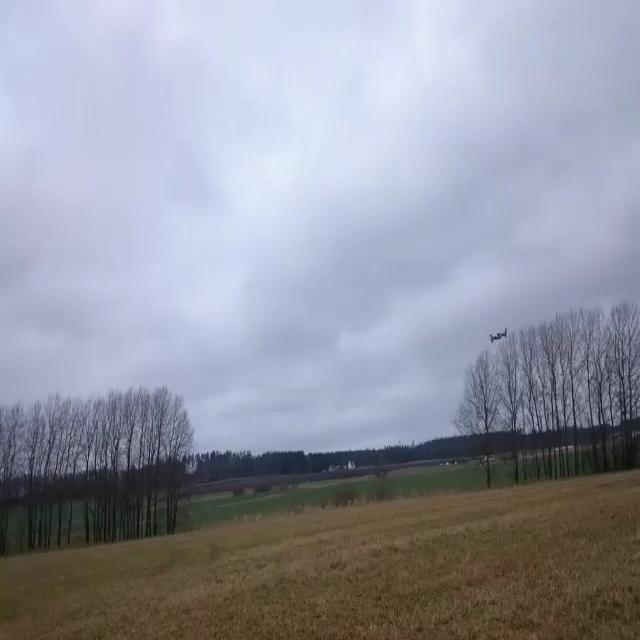drone: (489, 326, 508, 344)
